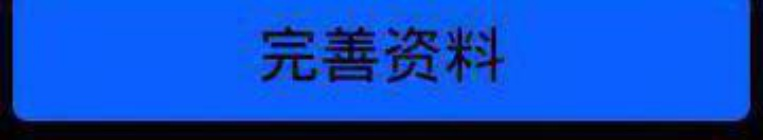Button: (1, 1, 762, 139)
